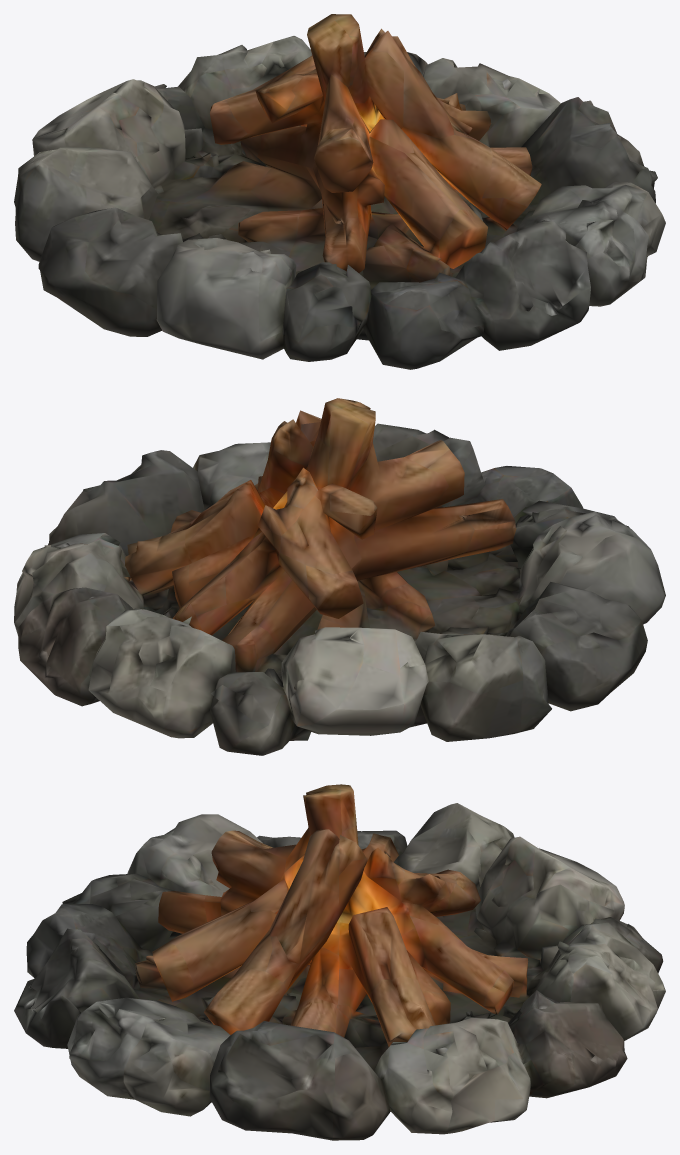
Rendered from fogata.glb.
3 renders of one model, top to bottom at view 1: azimuth 30°, elevation 25°; view 2: azimuth 150°, elevation 25°; view 3: azimuth 270°, elevation 25°, orthographic.
Parts seen in each view (by area): view 1: tripo_node_5edb956a-9f16-4ca3-b447-448284d04c50; view 2: tripo_node_5edb956a-9f16-4ca3-b447-448284d04c50; view 3: tripo_node_5edb956a-9f16-4ca3-b447-448284d04c50.
Boxes of the visible parts, x1,y1,x2,y2 form: tripo_node_5edb956a-9f16-4ca3-b447-448284d04c50: (14,14,665,369); tripo_node_5edb956a-9f16-4ca3-b447-448284d04c50: (14,398,665,755); tripo_node_5edb956a-9f16-4ca3-b447-448284d04c50: (14,784,665,1140).
Size of the model in its own units: 0.9953 by 0.3928 by 0.9988.
Materials: 1 (1 with a texture image).
